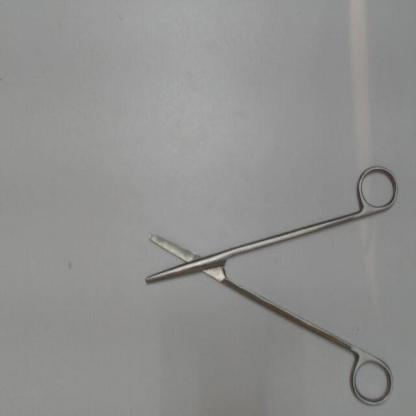9 Metzenbaum Scissors: (138, 160, 404, 412)
